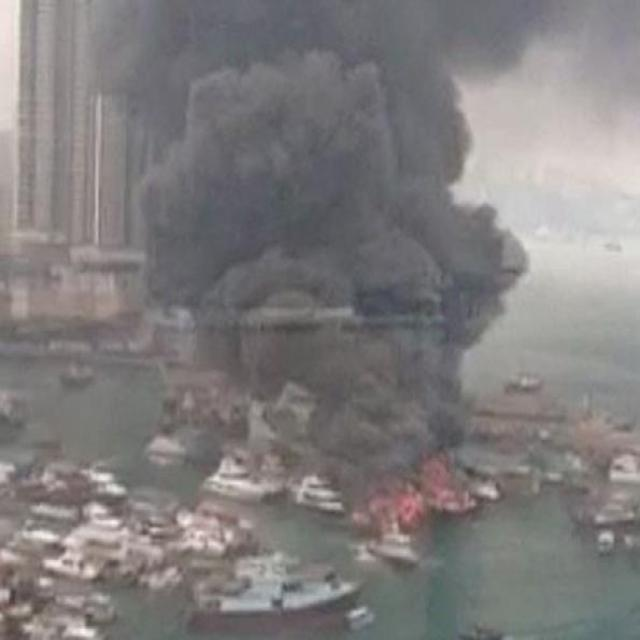Fire: (364, 470, 472, 530)
Smoke: (82, 2, 554, 460)
